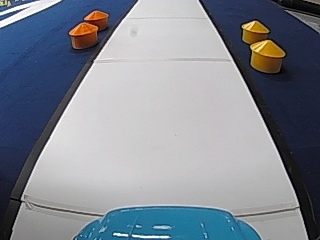granary: (247, 38, 286, 72), (67, 20, 98, 49), (239, 18, 270, 43), (83, 8, 108, 30)
